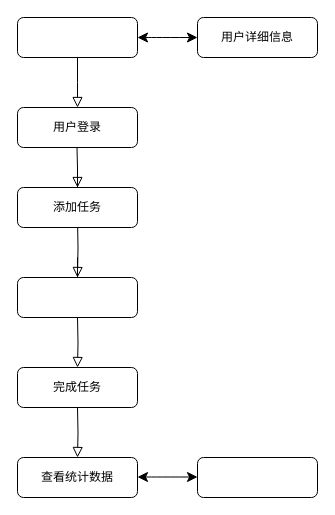
This 335x515 diagram has some shape labels left out. Here are the shapes that lost their labels. From the top down, the centre of each, then its label:
At [77,37]: "用户注册".
At [77,297]: "执行任务".
At [257,477]: "所有任务信息".
